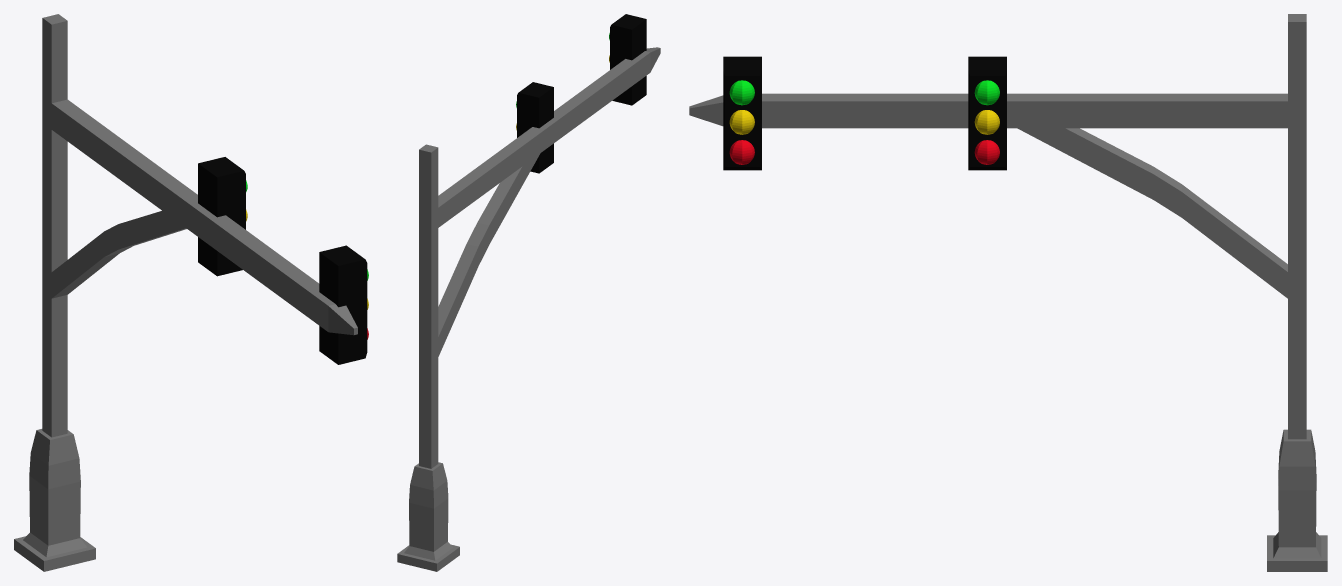
File: traffic light.fbx
The picture shows the model from 3 angles, left to right: view 1: azimuth 30°, elevation 25°; view 2: azimuth 150°, elevation 25°; view 3: azimuth 270°, elevation 25°; orthographic projection. The views are drawn at different scales.
Parts seen in each view (by area): view 1: Sphere.001; view 2: Sphere.001; view 3: Sphere.001.
Part boxes in pixels (x1,y1,x2,y2): Sphere.001: [14, 14, 368, 571]; Sphere.001: [397, 14, 660, 571]; Sphere.001: [689, 14, 1327, 571].
Size of the model in its own units: 386 by 3089 by 3304.
